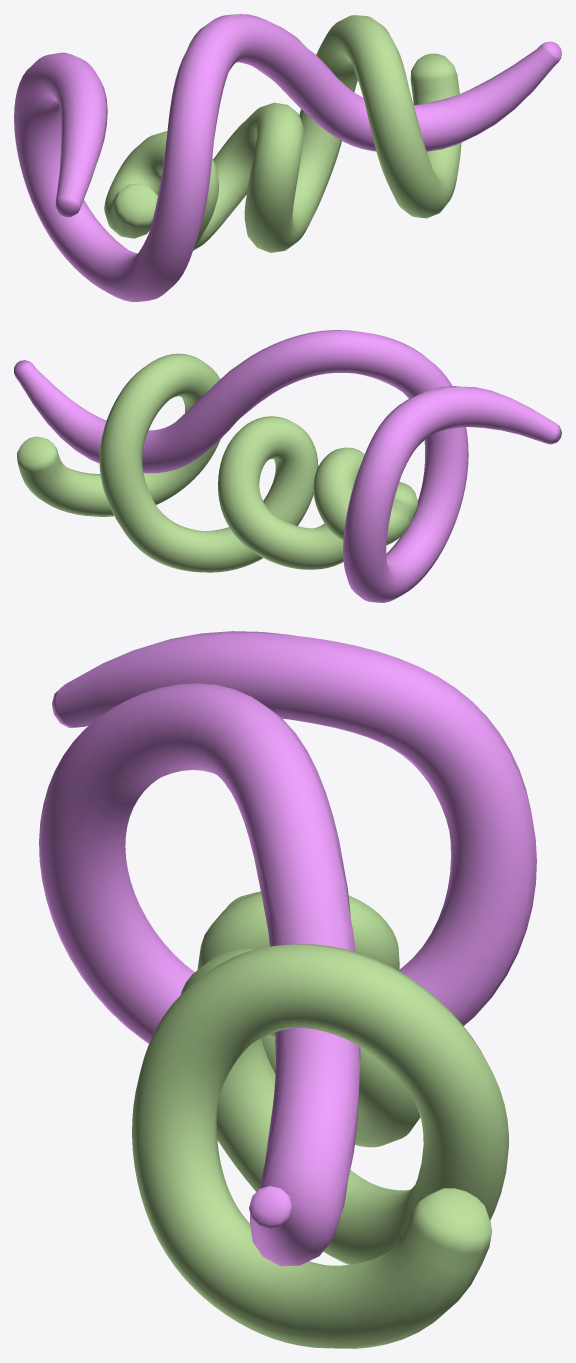
File: demo.gltf
3 views of the same model, one above another, from view 1: azimuth 30°, elevation 25°; view 2: azimuth 150°, elevation 25°; view 3: azimuth 270°, elevation 25° (orthographic). The views are drawn at different scales.
Visible parts, largest first — view 1: Object_3, Object_2; view 2: Object_3, Object_2; view 3: Object_3, Object_2.
Boxes of the visible parts, x1=… form: Object_3: x1=14, y1=14, x2=561, y2=301; Object_2: x1=104, y1=15, x2=461, y2=252; Object_3: x1=14, y1=330, x2=561, y2=602; Object_2: x1=17, y1=353, x2=418, y2=572; Object_3: x1=39, y1=631, x2=536, y2=1266; Object_2: x1=132, y1=891, x2=508, y2=1348.
Size of the model in its own units: 0.597 by 0.2741 by 0.2595.
